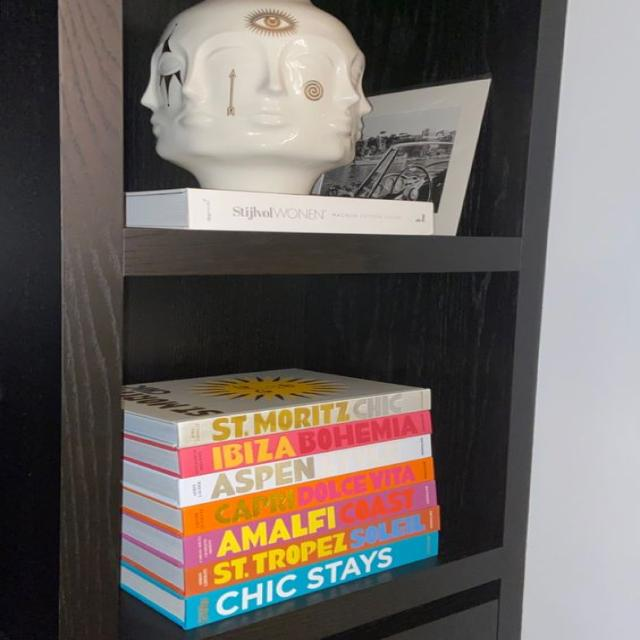book: (185, 532, 438, 629), (184, 507, 439, 598), (185, 481, 435, 564), (183, 458, 434, 536), (180, 433, 432, 506), (181, 413, 432, 477), (178, 389, 431, 449), (190, 189, 434, 234)
